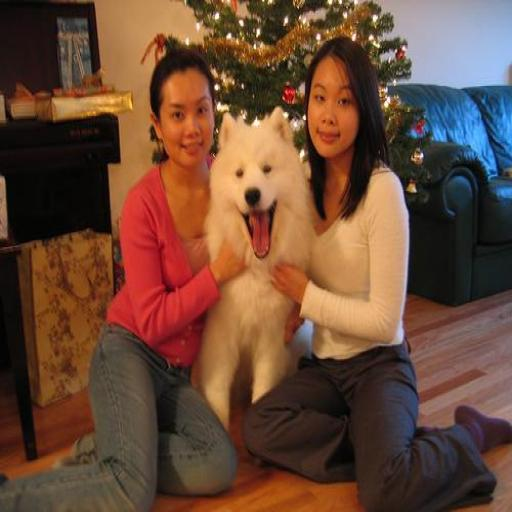dog_face: (216, 107, 298, 267)
